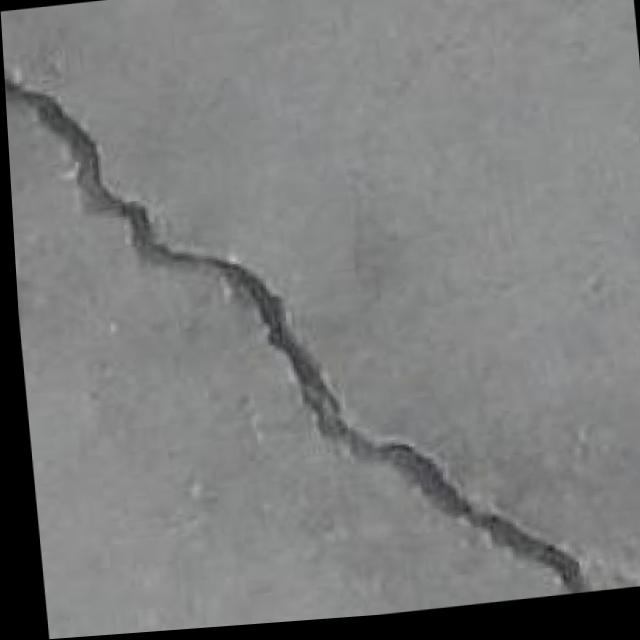Crack: (5, 37, 640, 600)
